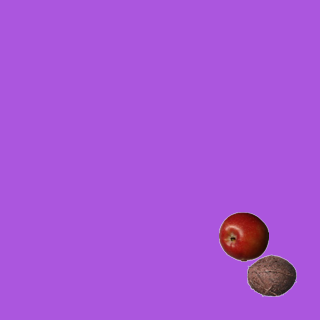Apple Braeburn: (218, 211, 268, 261)
Cocos: (246, 250, 296, 300)
